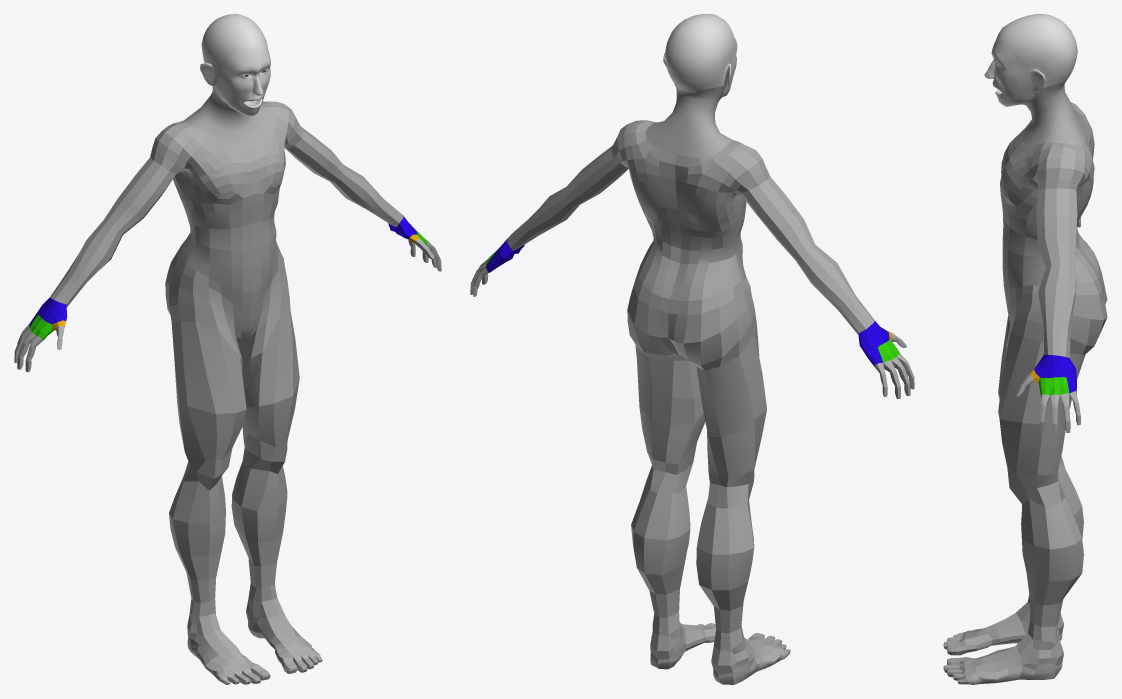
3 views of the same model, side by side, from view 1: azimuth 30°, elevation 25°; view 2: azimuth 150°, elevation 25°; view 3: azimuth 270°, elevation 25° (orthographic). The views are drawn at different scales.
Visible parts, largest first — view 1: polySurface24; view 2: polySurface24; view 3: polySurface24.
Part boxes in pixels (left/top/right/bottom): polySurface24: left=14, top=14, right=441, bottom=684; polySurface24: left=470, top=14, right=914, bottom=684; polySurface24: left=943, top=14, right=1107, bottom=684.
Size of the model in its own units: 24.76 by 35.45 by 8.18.
